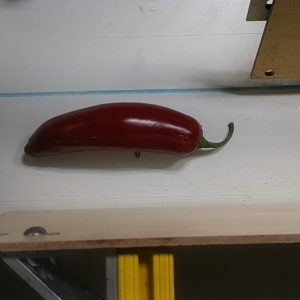Cut Point: (184, 115, 210, 158)
